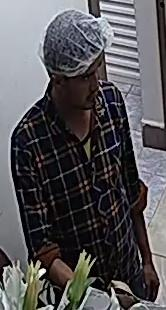no_apron: (16, 80, 146, 280)
